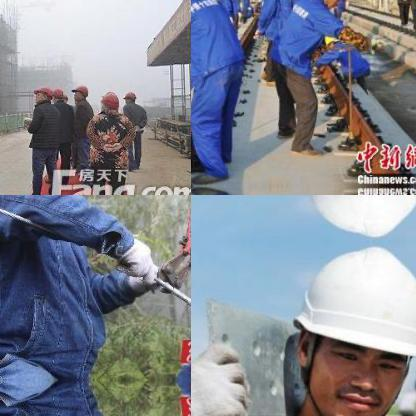Helmet: (290, 240, 415, 415), (289, 195, 415, 241), (98, 87, 118, 111), (32, 82, 52, 106), (68, 82, 88, 100), (121, 89, 135, 103), (51, 86, 63, 100)
